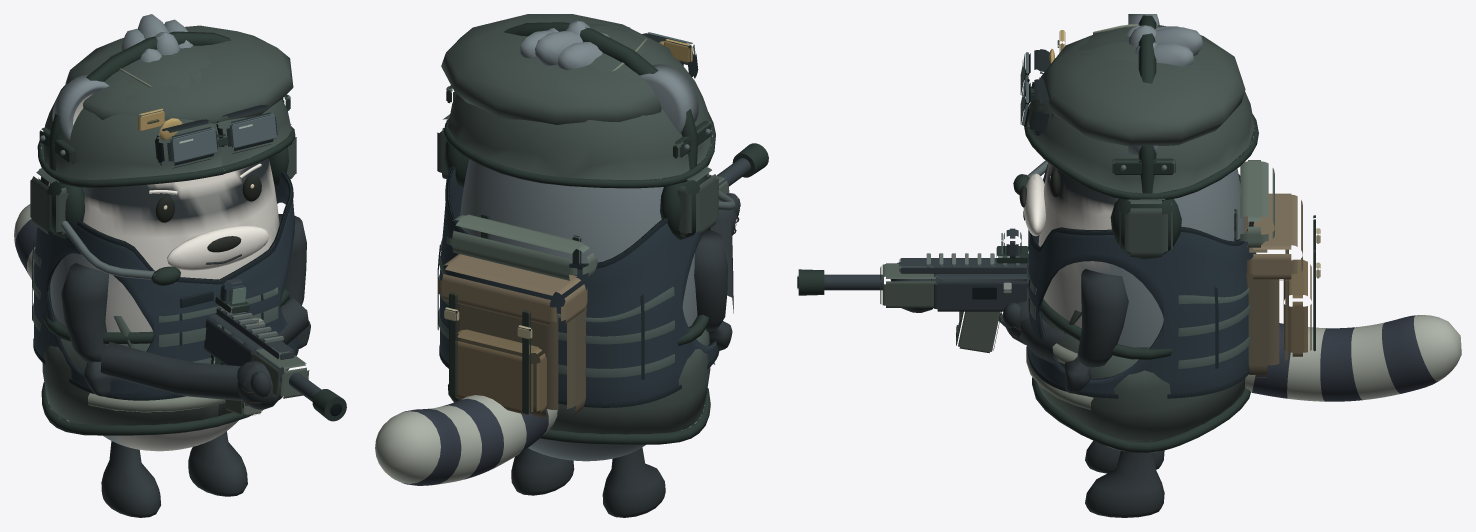
Rendered from raccoon-clean.glb.
3 renders of one model, left to right at view 1: azimuth 30°, elevation 25°; view 2: azimuth 150°, elevation 25°; view 3: azimuth 270°, elevation 25°, orthographic. The views are drawn at different scales.
Parts seen in each view (by area): view 1: raccoon_vest_mesh, raccoon_torso_mesh, raccoon_helmet_mesh, raccoon_weapon_mesh, raccoon_beret_mesh, raccoon_vestPadded_mesh, raccoon_headset_mesh, raccoon_goggles_mesh, raccoon_leftArm_mesh, raccoon_leftFoot_mesh, raccoon_snout_mesh, raccoon_rightFoot_mesh (+8 smaller); view 2: raccoon_pack_mesh, raccoon_vest_mesh, raccoon_helmet_mesh, raccoon_beret_mesh, raccoon_torso_mesh, raccoon_tail_mesh, raccoon_vestPadded_mesh, raccoon_headset_mesh, raccoon_leftFoot_mesh, raccoon_leftArm_mesh, raccoon_weapon_mesh, raccoon_crestSwept_mesh (+4 smaller); view 3: raccoon_vest_mesh, raccoon_beret_mesh, raccoon_weapon_mesh, raccoon_helmet_mesh, raccoon_vestPadded_mesh, raccoon_tail_mesh, raccoon_pack_mesh, raccoon_torso_mesh, raccoon_headset_mesh, raccoon_rightFoot_mesh, raccoon_rightArm_mesh, raccoon_goggles_mesh (+3 smaller).
Part boxes in pixels (x1,y1,x2,y2): raccoon_vest_mesh: (32,170,298,400); raccoon_torso_mesh: (50,158,279,451); raccoon_helmet_mesh: (37,45,295,187); raccoon_weapon_mesh: (100,278,346,421); raccoon_beret_mesh: (65,25,293,140); raccoon_vestPadded_mesh: (41,282,289,435); raccoon_headset_mesh: (30,31,296,285); raccoon_goggles_mesh: (155,105,277,168); raccoon_leftArm_mesh: (61,263,108,362); raccoon_leftFoot_mesh: (101,441,160,517); raccoon_snout_mesh: (167,225,269,270); raccoon_rightFoot_mesh: (188,431,247,496); raccoon_pack_mesh: (437,213,597,418); raccoon_vest_mesh: (437,166,719,407); raccoon_helmet_mesh: (443,22,715,188); raccoon_beret_mesh: (441,14,681,124); raccoon_torso_mesh: (460,159,697,461); raccoon_tail_mesh: (375,395,557,485); raccoon_vestPadded_mesh: (448,314,715,444); raccoon_headset_mesh: (437,22,735,239); raccoon_leftFoot_mesh: (602,447,665,517); raccoon_leftArm_mesh: (694,230,727,331); raccoon_weapon_mesh: (706,143,768,313); raccoon_crestSwept_mesh: (520,30,602,70); raccoon_vest_mesh: (1025,163,1256,398); raccoon_beret_mesh: (1042,25,1245,146); raccoon_weapon_mesh: (797,228,1072,364); raccoon_helmet_mesh: (1024,24,1258,200); raccoon_vestPadded_mesh: (1026,299,1250,452); raccoon_tail_mesh: (1245,315,1461,401); raccoon_pack_mesh: (1234,160,1320,377); raccoon_torso_mesh: (1038,163,1244,452); raccoon_headset_mesh: (1013,15,1181,259); raccoon_rightFoot_mesh: (1085,450,1164,517); raccoon_rightArm_mesh: (1077,269,1128,367); raccoon_goggles_mesh: (1020,49,1053,135).
Bounding box in the file's own units: 1.15 × 2 × 2.61.
